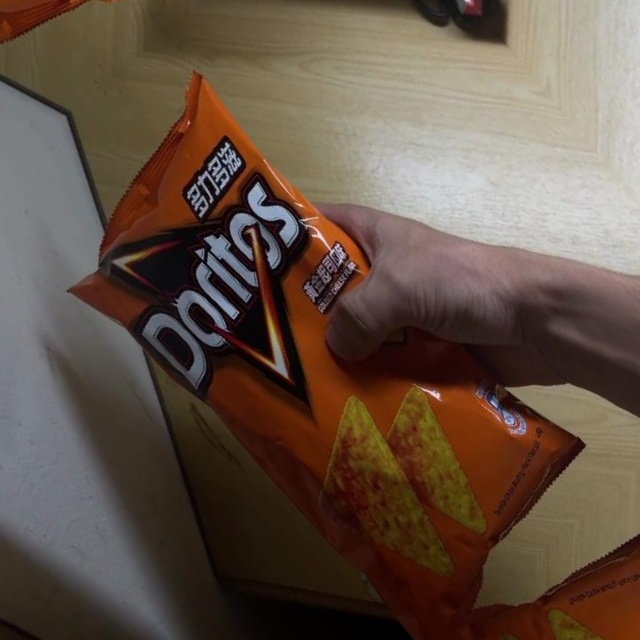Doritos: (10, 32, 620, 640)
